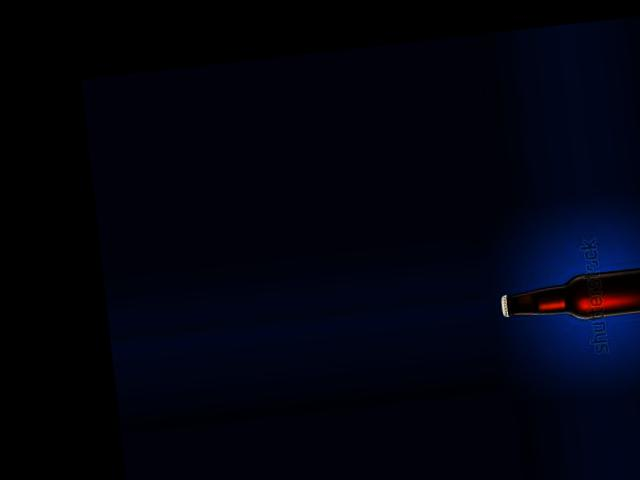beer: (498, 263, 640, 328)
